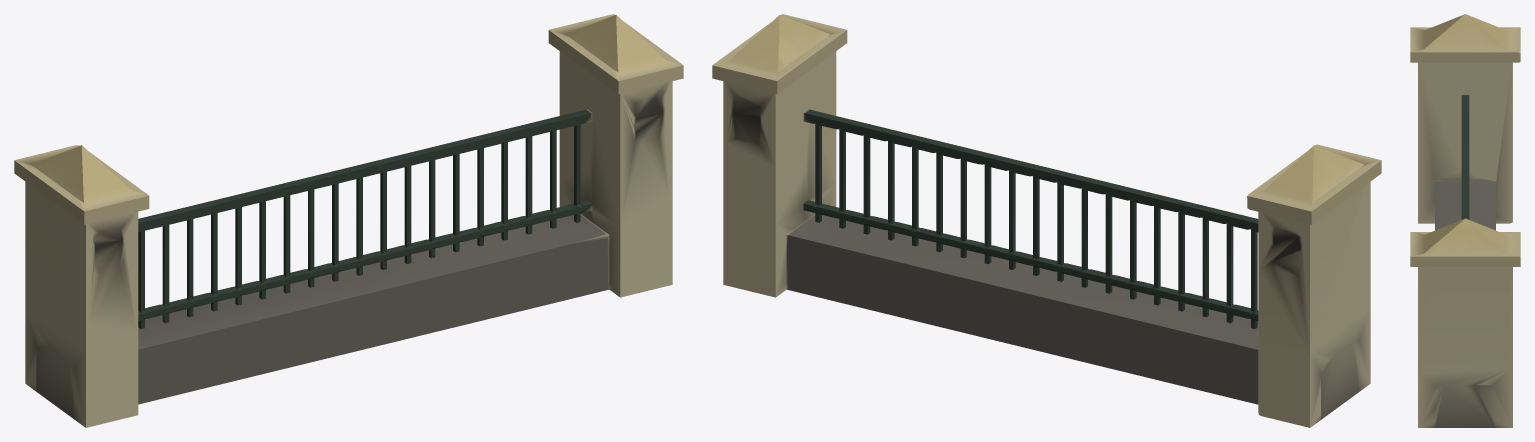
Rendered from hang_rao_khach_san_grand.glb.
3 views of the same model, side by side, from view 1: azimuth 30°, elevation 25°; view 2: azimuth 150°, elevation 25°; view 3: azimuth 270°, elevation 25° (orthographic). The views are drawn at different scales.
Parts seen in each view (by area): view 1: hang_rao_khach_san_grand; view 2: hang_rao_khach_san_grand; view 3: hang_rao_khach_san_grand.
Boxes of the visible parts, bbox=[...] form: hang_rao_khach_san_grand: bbox=[14, 14, 683, 427]; hang_rao_khach_san_grand: bbox=[712, 14, 1381, 427]; hang_rao_khach_san_grand: bbox=[1410, 14, 1520, 427].
Bounding box in the file's own units: 2.86 × 1.16 × 0.58.
